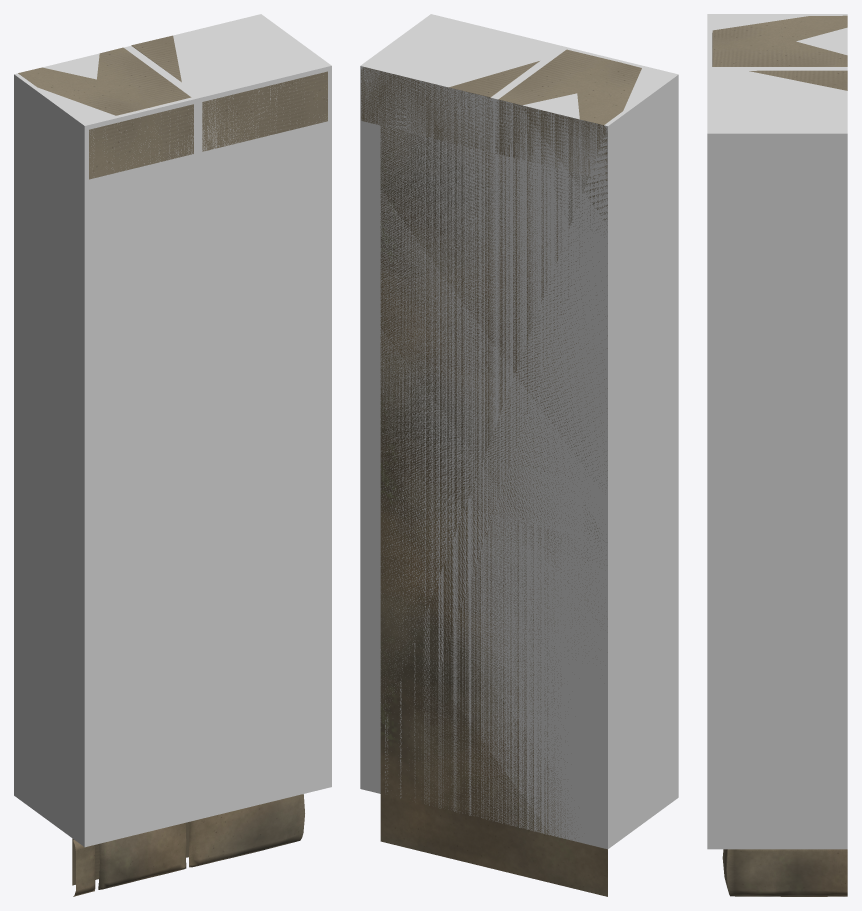
File: retaining_wall_end.gltf
The picture shows the model from 3 angles, left to right: view 1: azimuth 30°, elevation 25°; view 2: azimuth 150°, elevation 25°; view 3: azimuth 270°, elevation 25°; orthographic projection.
Visible parts, largest first — view 1: retaining_wall_end_col, retaining_wall_end_LOD0; view 2: retaining_wall_end_col, retaining_wall_end_LOD0; view 3: retaining_wall_end_col, retaining_wall_end_LOD0.
Part boxes in pixels (box(x1,y1,x2,y2)): retaining_wall_end_col: box(14, 14, 331, 847); retaining_wall_end_LOD0: box(18, 35, 327, 896); retaining_wall_end_col: box(360, 14, 678, 849); retaining_wall_end_LOD0: box(361, 49, 641, 896); retaining_wall_end_col: box(707, 14, 847, 849); retaining_wall_end_LOD0: box(712, 15, 847, 896).
Size of what is drawn, in the model's own units: 1.09 by 3.29 by 0.54.
Materials: 3 (3 with a texture image).
